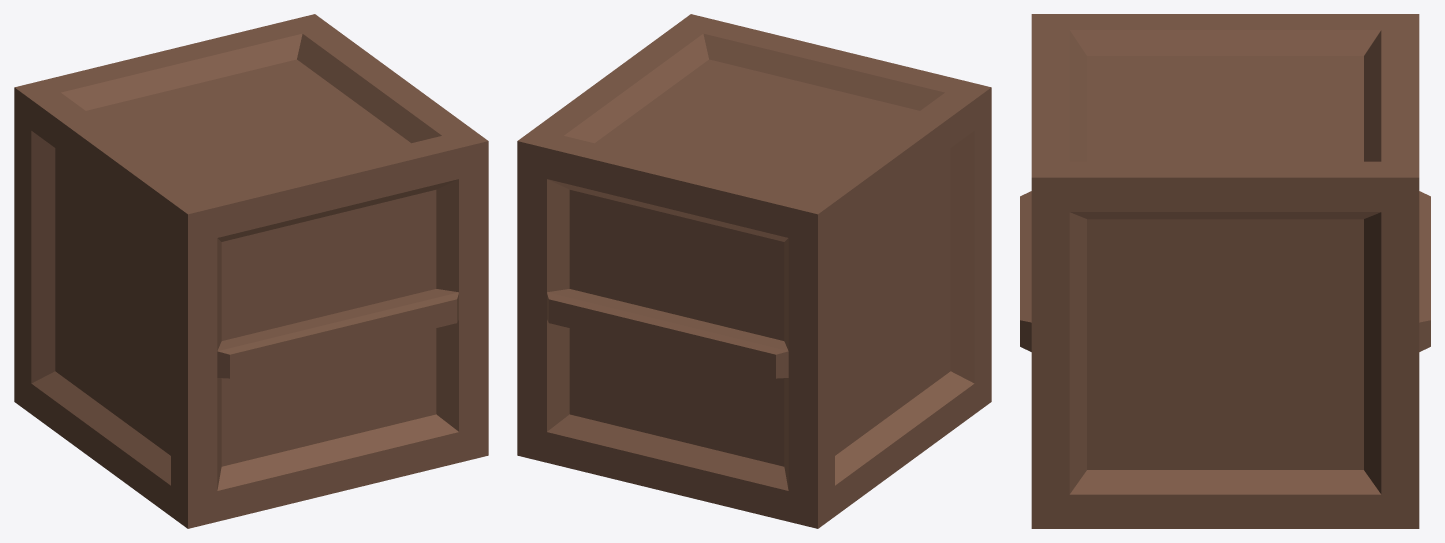
The model's file is crate.FBX.
3 views of the same model, side by side, from view 1: azimuth 30°, elevation 25°; view 2: azimuth 150°, elevation 25°; view 3: azimuth 270°, elevation 25° (orthographic). The views are drawn at different scales.
Parts seen in each view (by area): view 1: crate; view 2: crate; view 3: crate.
Part boxes in pixels (<box>): crate: <box>14,14,488,528</box>; crate: <box>517,14,991,528</box>; crate: <box>1020,14,1430,528</box>.
Bounding box in the file's own units: 53.11 × 53.11 × 56.3.
